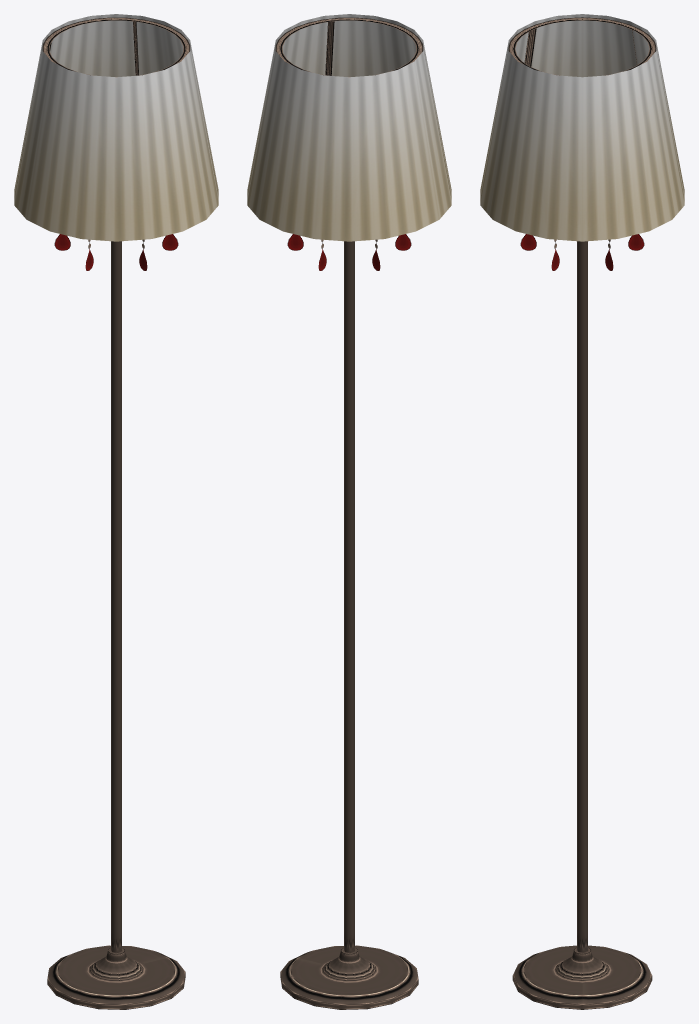
The model's file is TableLamp06B.FBX.
The picture shows the model from 3 angles, left to right: view 1: azimuth 30°, elevation 25°; view 2: azimuth 150°, elevation 25°; view 3: azimuth 270°, elevation 25°; orthographic projection.
Visible parts, largest first — view 1: TableLamp06B; view 2: TableLamp06B; view 3: TableLamp06B.
Part boxes in pixels (x1,y1,x2,y2): TableLamp06B: [14, 14, 218, 1009]; TableLamp06B: [247, 14, 451, 1009]; TableLamp06B: [480, 14, 684, 1009].
Size of the model in its own units: 43.96 by 43.29 by 218.
